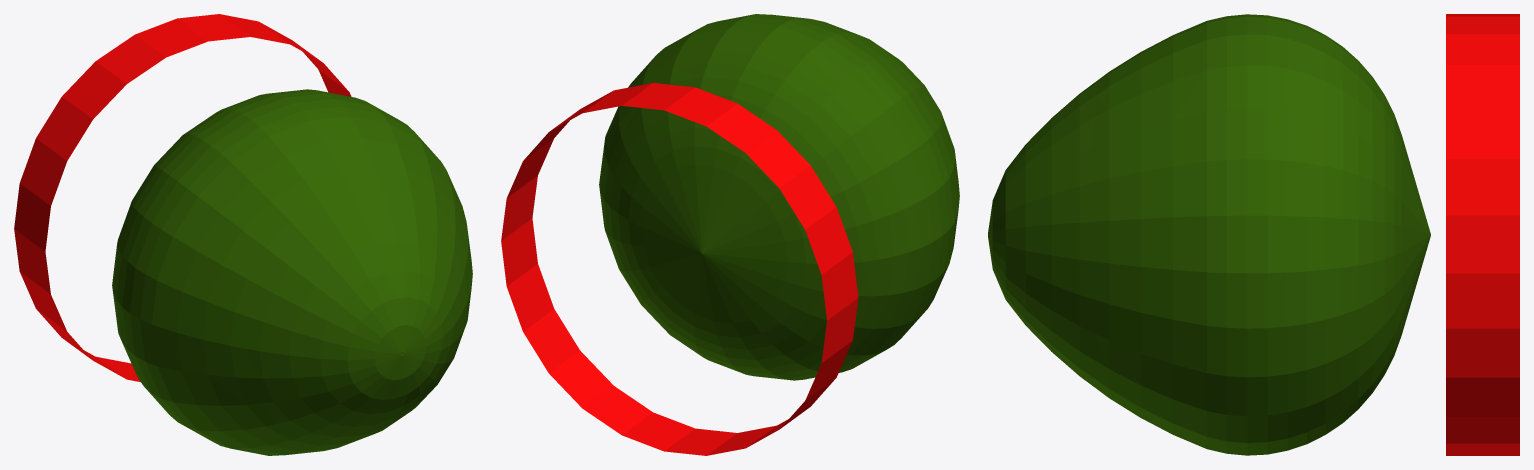
File: HPEo300cm.obj
The picture shows the model from 3 angles, left to right: view 1: azimuth 30°, elevation 25°; view 2: azimuth 150°, elevation 25°; view 3: azimuth 270°, elevation 25°; orthographic projection. The views are drawn at different scales.
Bounding box in the file's own units: 3 × 3 × 3.6.
